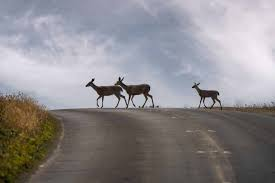deer: (114, 77, 158, 110), (85, 77, 128, 110), (190, 82, 224, 112)
